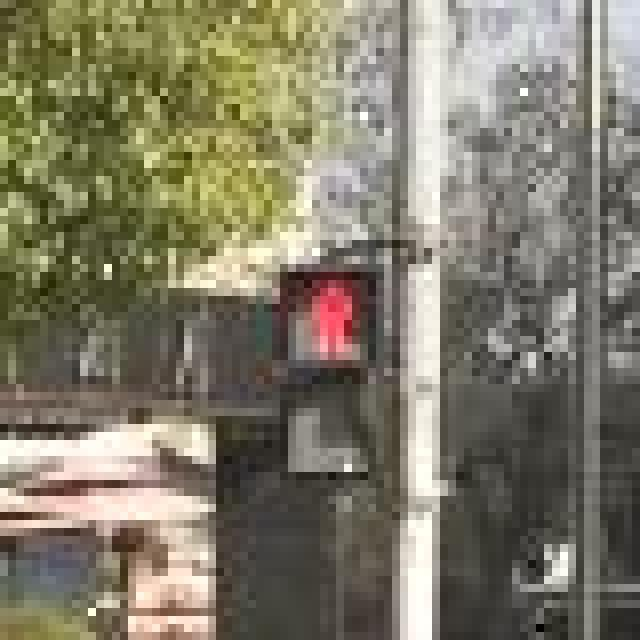redlight: (281, 247, 378, 499)
